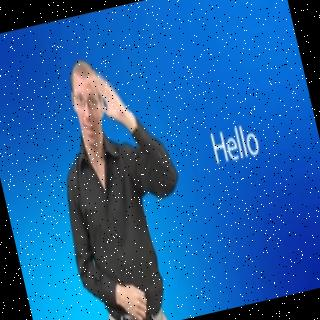Hello: (28, 40, 212, 320)
